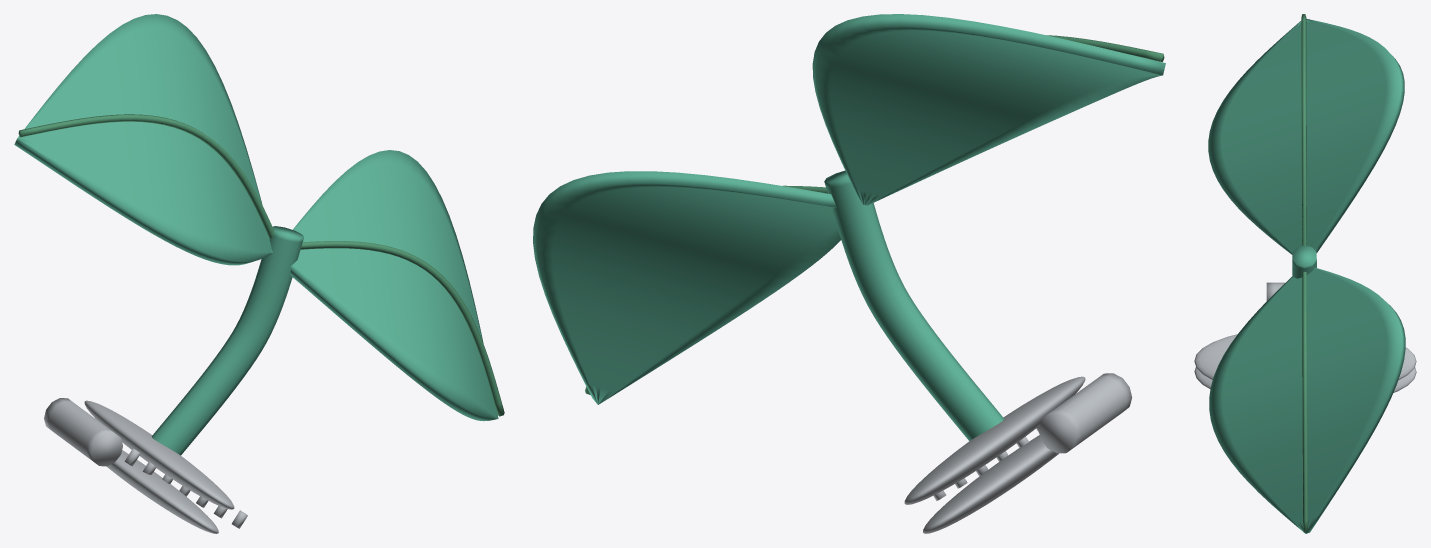
File: Masculine-taper-ears251-sprout.glb
3 views of the same model, side by side, from view 1: azimuth 30°, elevation 25°; view 2: azimuth 150°, elevation 25°; view 3: azimuth 270°, elevation 25° (orthographic). The views are drawn at different scales.
Visible parts, largest first — view 1: 226 extra / Accessory / mint226, 226 extra / Sprout / clip silver235, 226 extra / Sprout / leaf vein235; view 2: 226 extra / Accessory / mint226, 226 extra / Sprout / clip silver235, 226 extra / Sprout / leaf vein235; view 3: 226 extra / Accessory / mint226, 226 extra / Sprout / leaf vein235, 226 extra / Sprout / clip silver235.
Boxes of the visible parts, x1=… form: 226 extra / Accessory / mint226: x1=14, y1=14, x2=498, y2=455; 226 extra / Sprout / clip silver235: x1=44, y1=398, x2=247, y2=533; 226 extra / Sprout / leaf vein235: x1=18, y1=114, x2=504, y2=416; 226 extra / Accessory / mint226: x1=533, y1=14, x2=1165, y2=440; 226 extra / Sprout / clip silver235: x1=904, y1=373, x2=1132, y2=533; 226 extra / Sprout / leaf vein235: x1=585, y1=35, x2=1164, y2=394; 226 extra / Accessory / mint226: x1=1208, y1=19, x2=1405, y2=533; 226 extra / Sprout / leaf vein235: x1=1301, y1=14, x2=1307, y2=532; 226 extra / Sprout / clip silver235: x1=1194, y1=282, x2=1416, y2=392.
Bounding box in the file's own units: 0.2146 × 0.1965 × 0.104.
